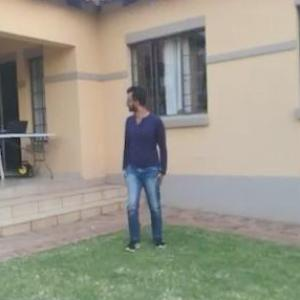follow: (115, 78, 170, 260)
